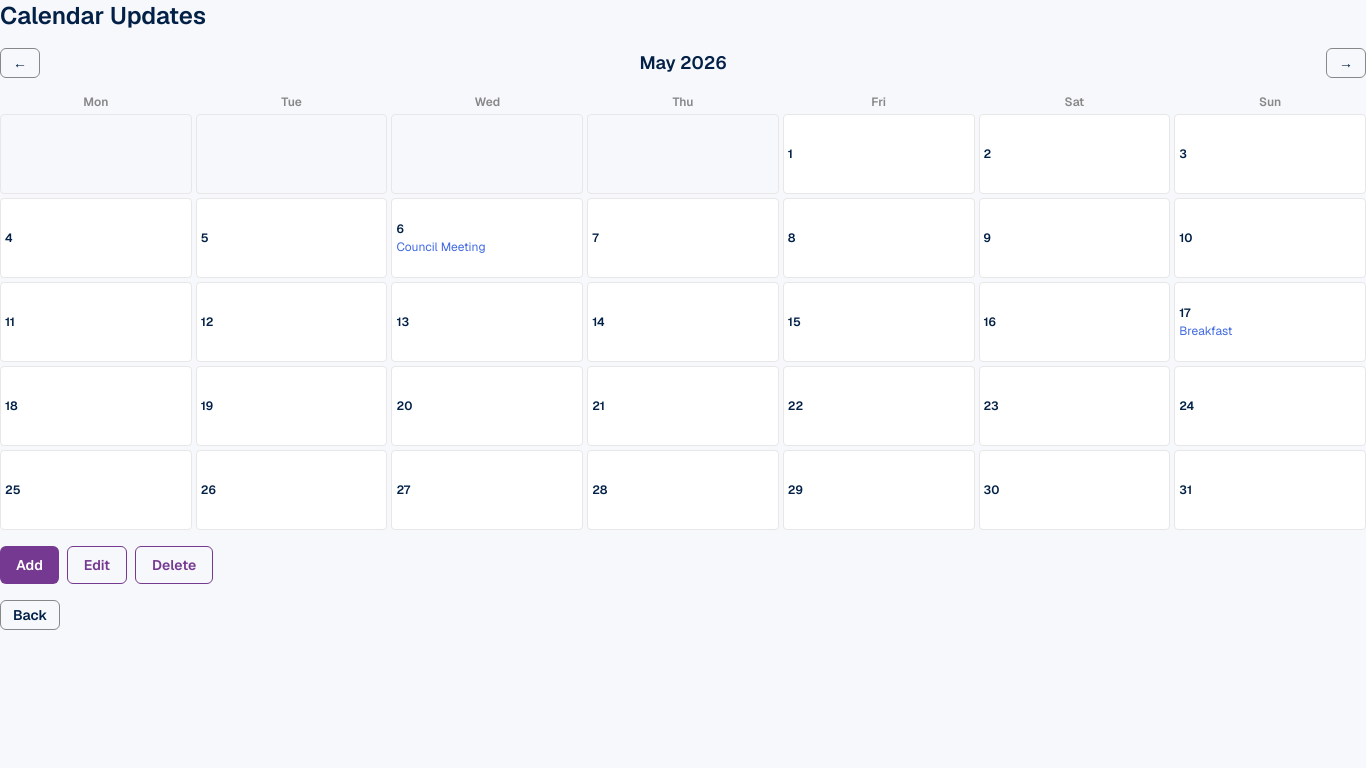
Test: CalendarUpdates › Add saves via API, shows success modal, and refetches
The image size is (1366, 768).
Expected: the text "Council Meeting" is shown, [396,239,486,255]
Click the button named "Select day 12" at (292, 322), box [196,282,387,362]
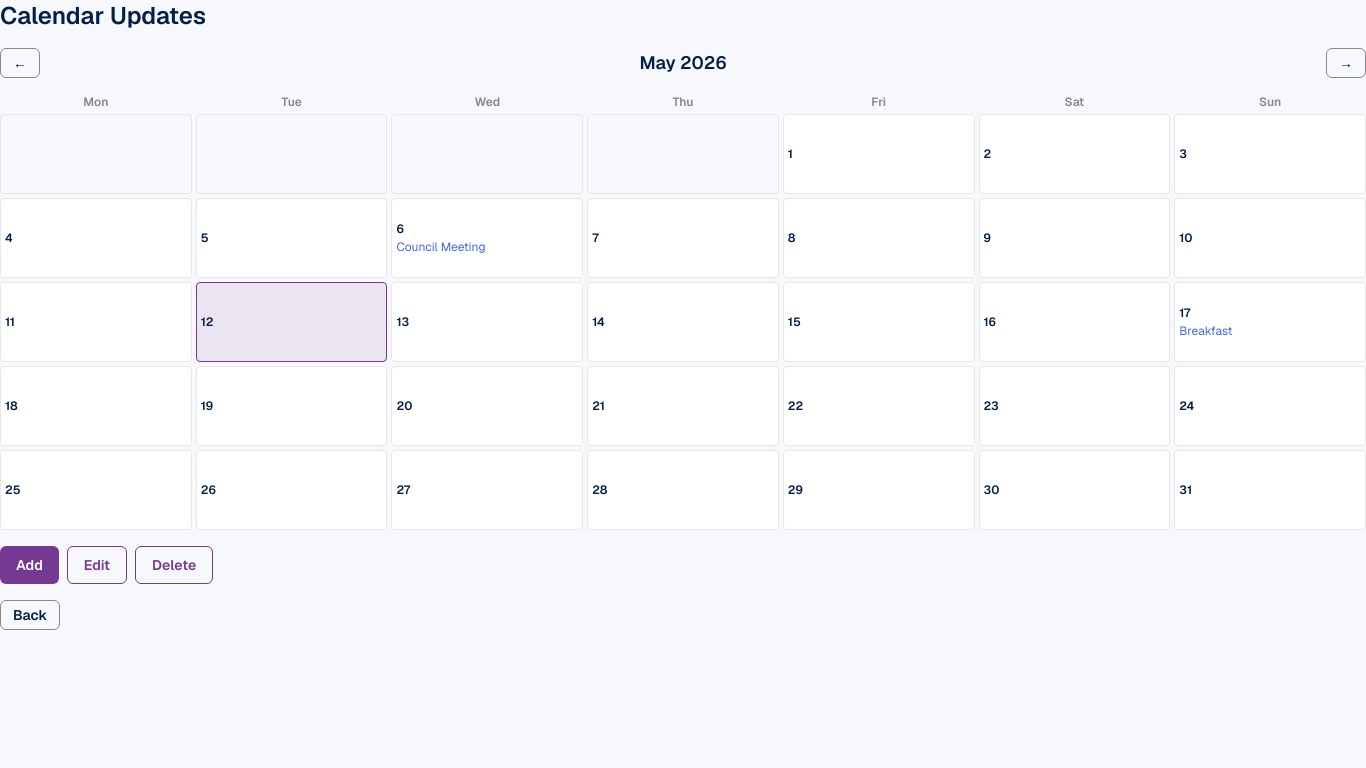
Click the button "Add" at (29, 565), box [0,546,59,584]
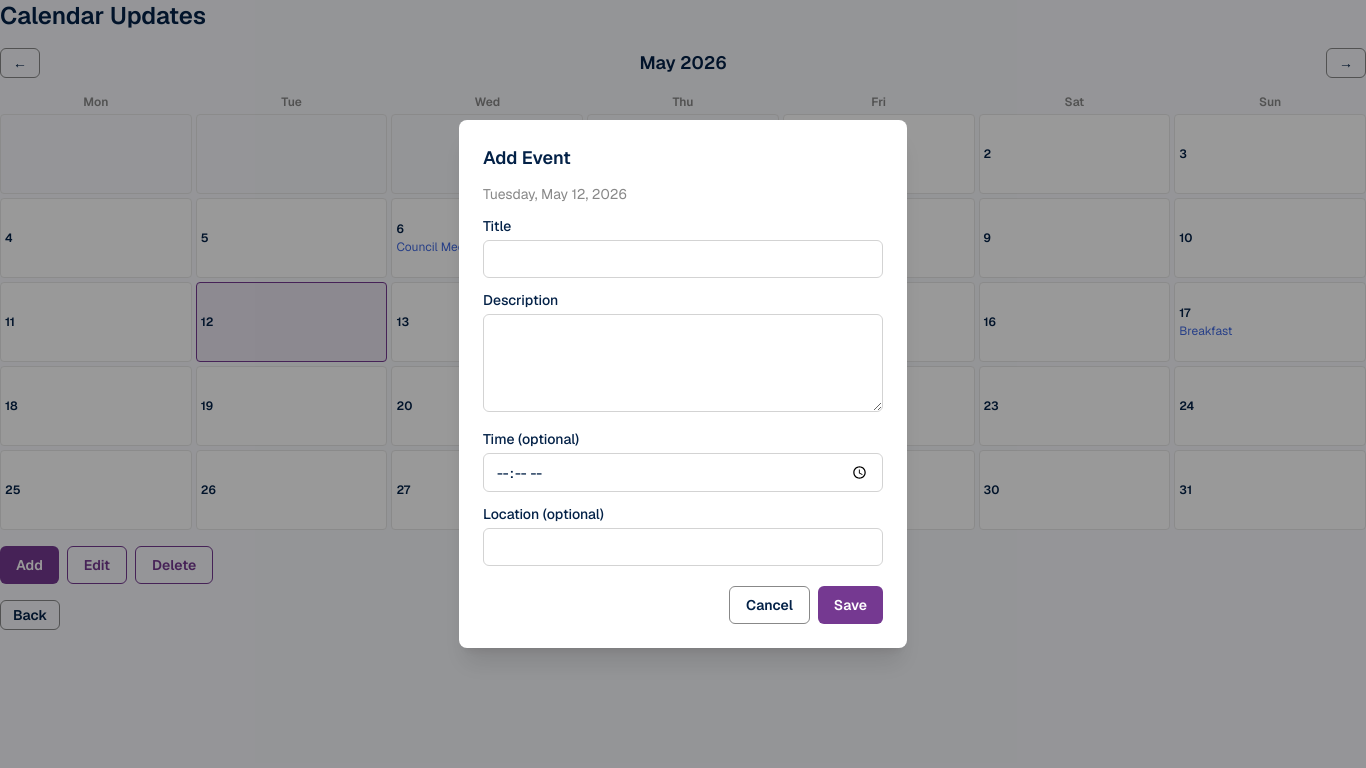
Type "Charity Drive" into the field labelled "Title" at (683, 259), box [483,240,883,278]
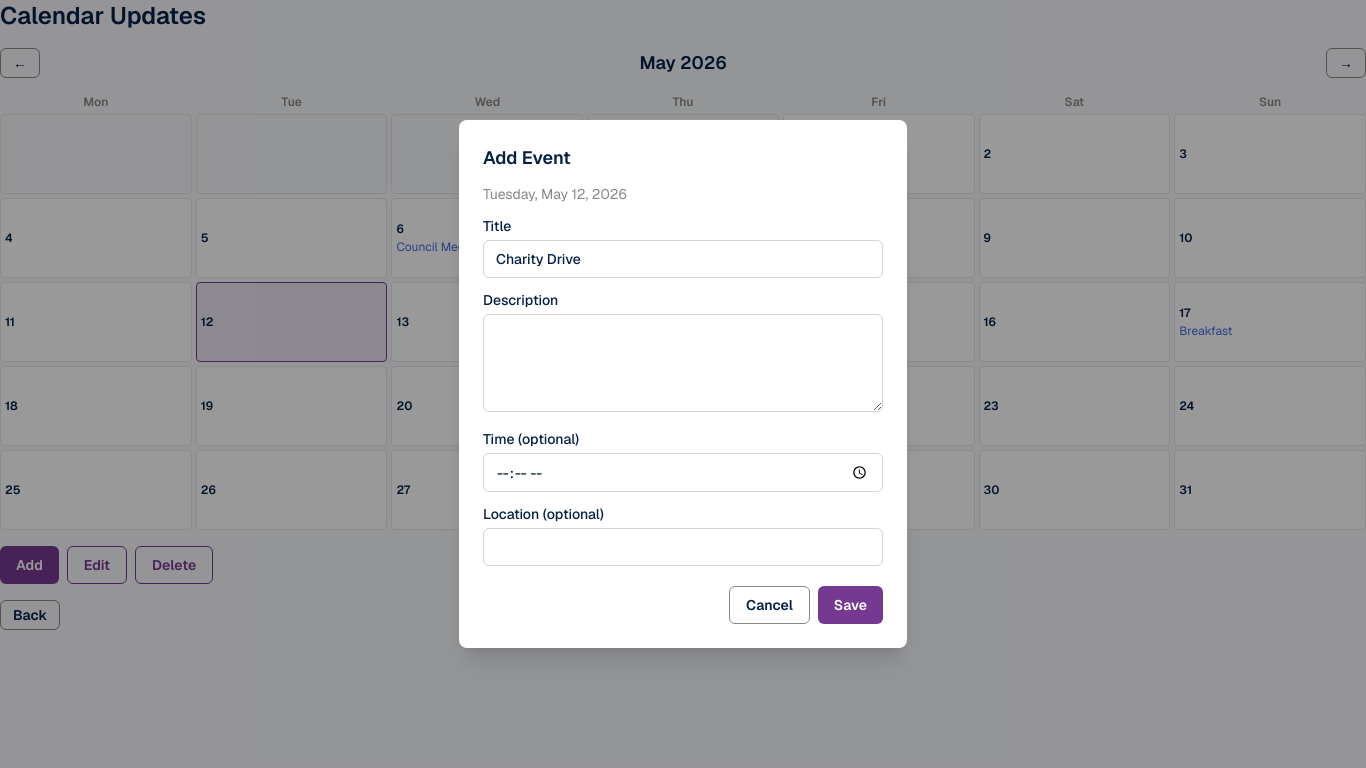
Type "Service project." into the text box labelled "Description" at (683, 363), box [483,314,883,412]
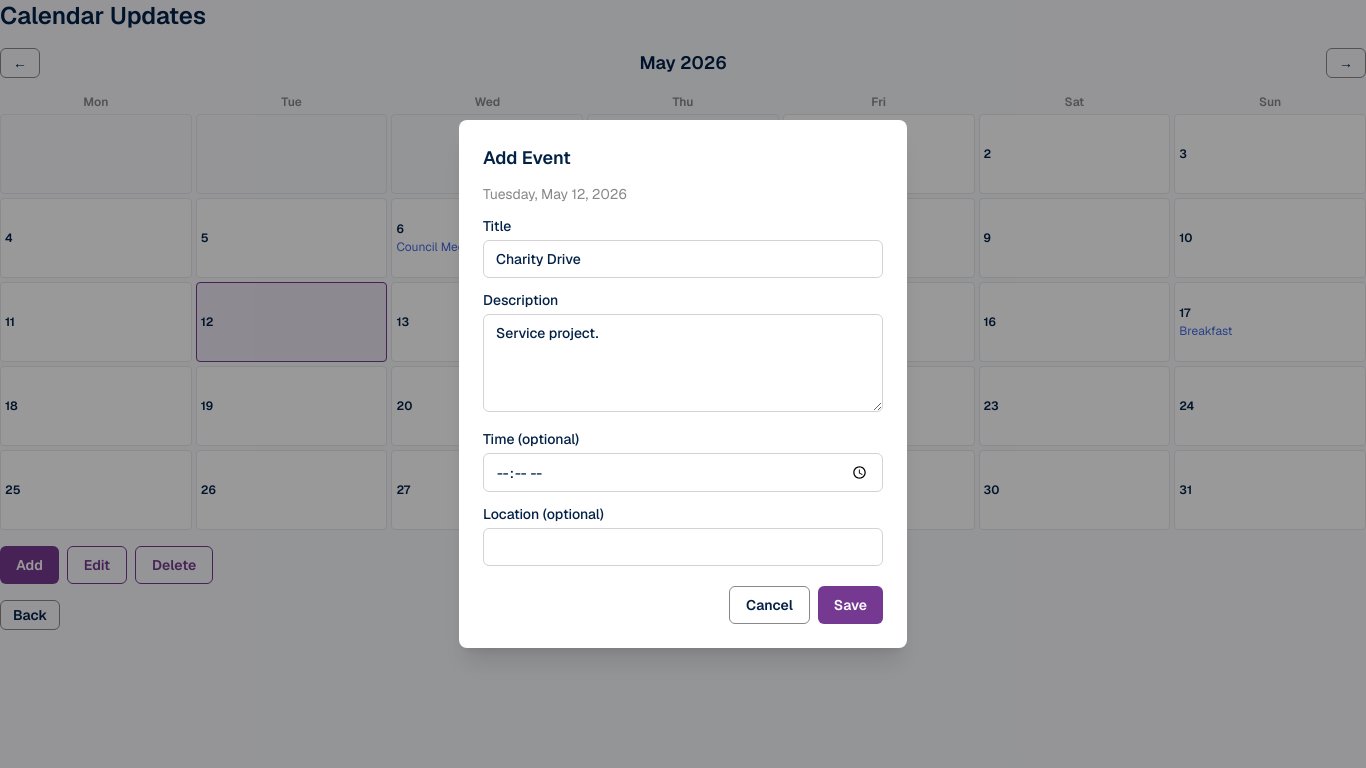
Click the button "Save" at (850, 605), box [818,586,883,624]
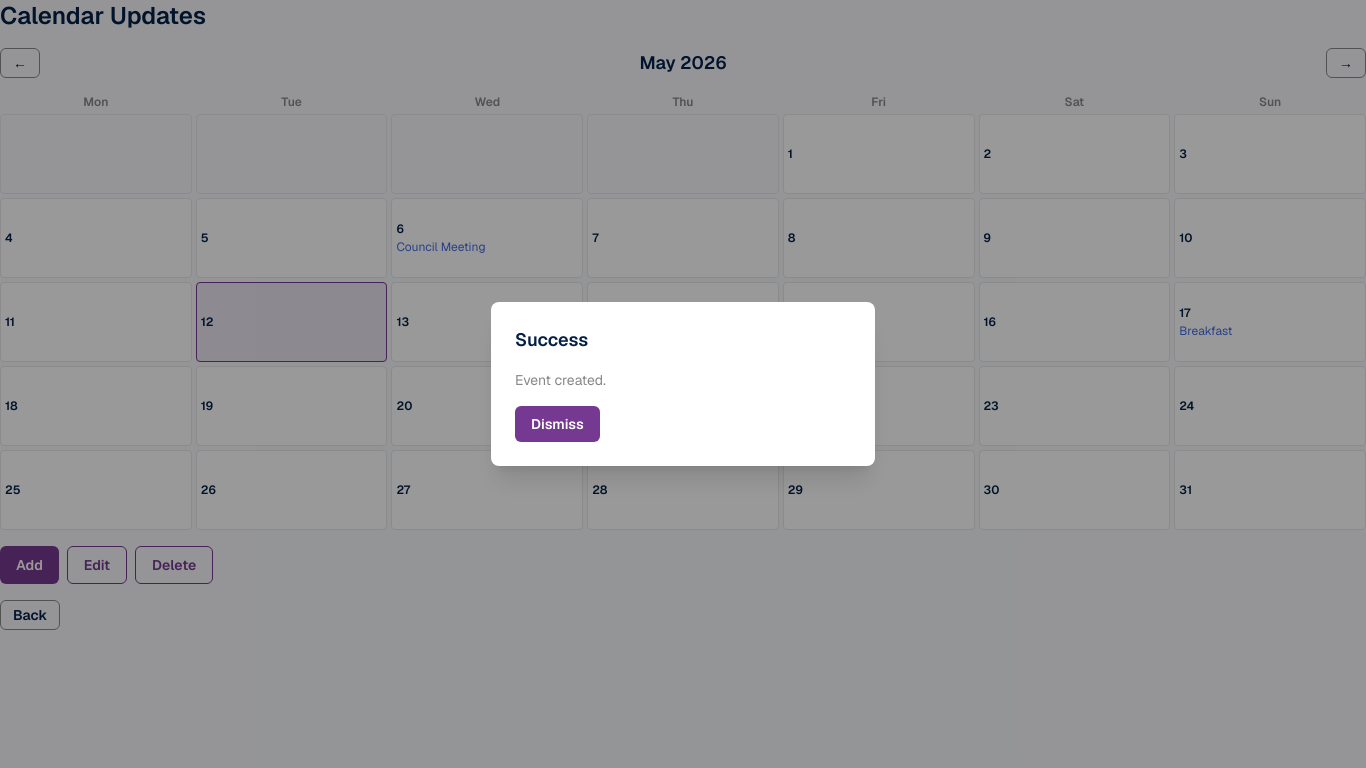
Expected: the heading "Success" is shown, [515,328,588,351]
Expected: the text "Event created." is shown, [515,371,606,389]
Click the button "Dismiss" at (557, 424), box [515,406,600,442]
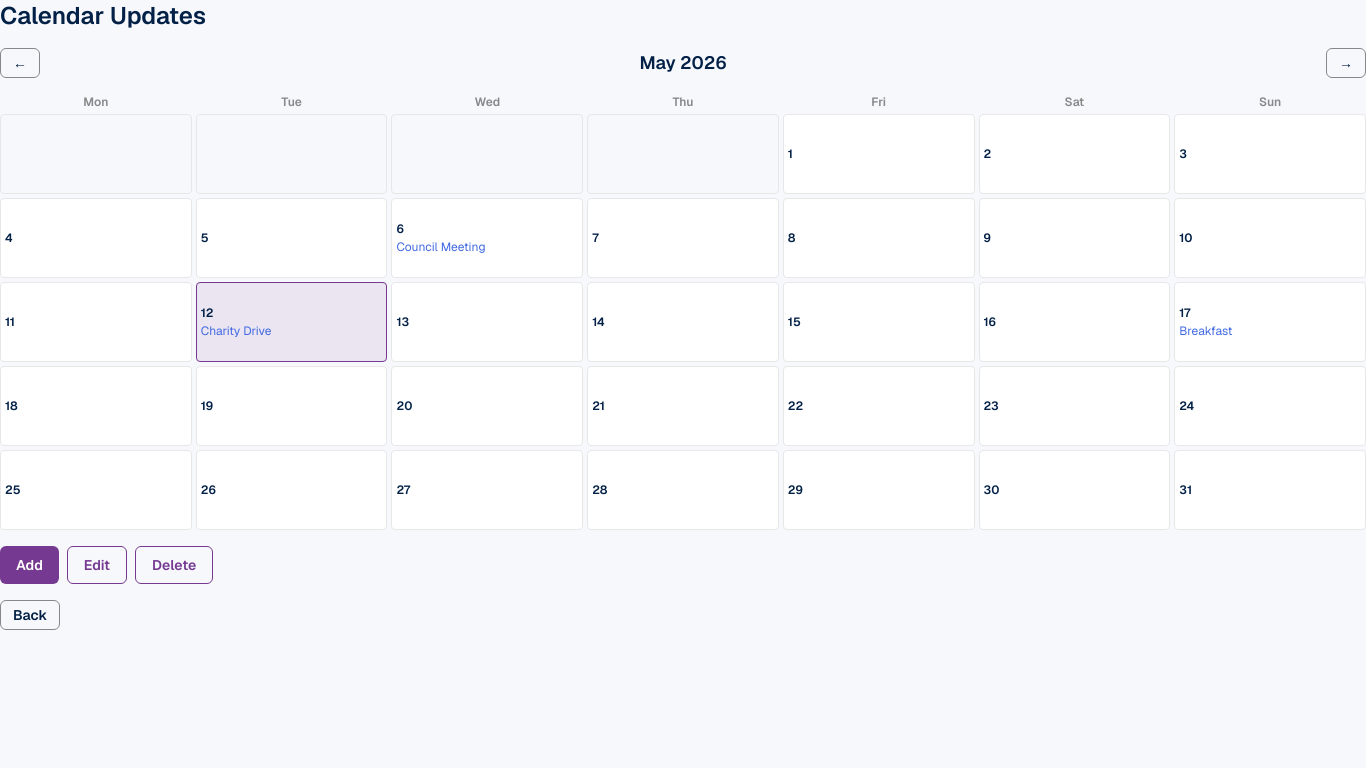
Expected: the text "Charity Drive" is shown, [201,323,271,339]
